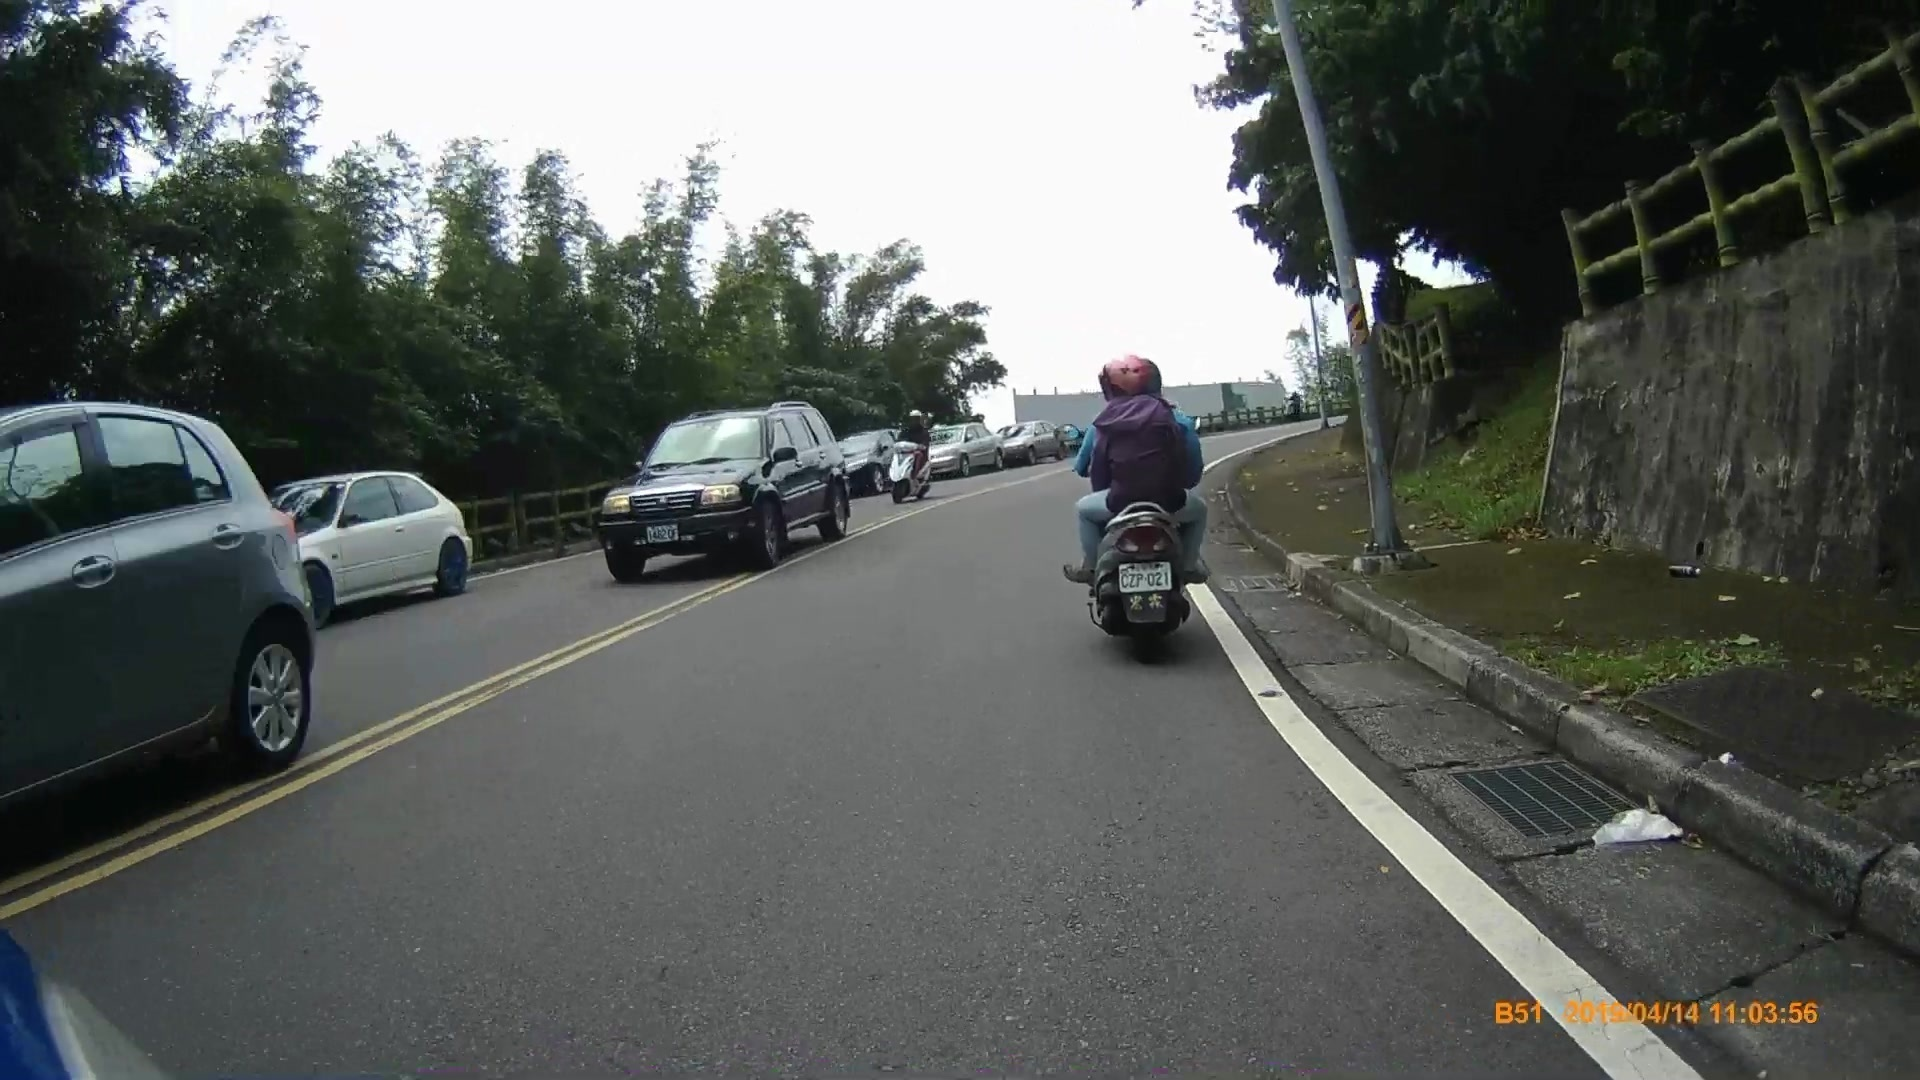License_plate: (1113, 566, 1178, 595), (636, 522, 687, 546)
